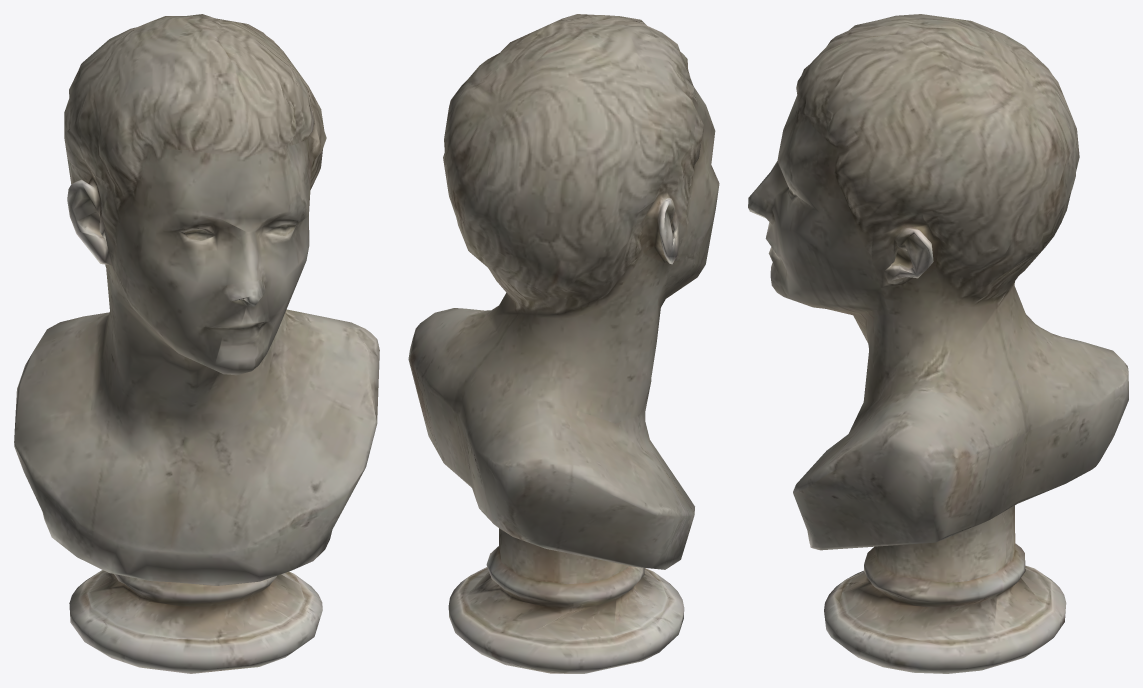
File: ph_marble_bust_01.glb
3 renders of one model, left to right at view 1: azimuth 30°, elevation 25°; view 2: azimuth 150°, elevation 25°; view 3: azimuth 270°, elevation 25°, orthographic. The views are drawn at different scales.
Visible parts, largest first — view 1: marble_bust_01; view 2: marble_bust_01; view 3: marble_bust_01.
Part boxes in pixels (x1=…): marble_bust_01: x1=14, y1=14, x2=379, y2=673; marble_bust_01: x1=408, y1=14, x2=719, y2=673; marble_bust_01: x1=748, y1=14, x2=1128, y2=673.
Bounding box in the file's own units: 0.2718 × 0.5147 × 0.2976.
Materials: 1 (1 with a texture image).
